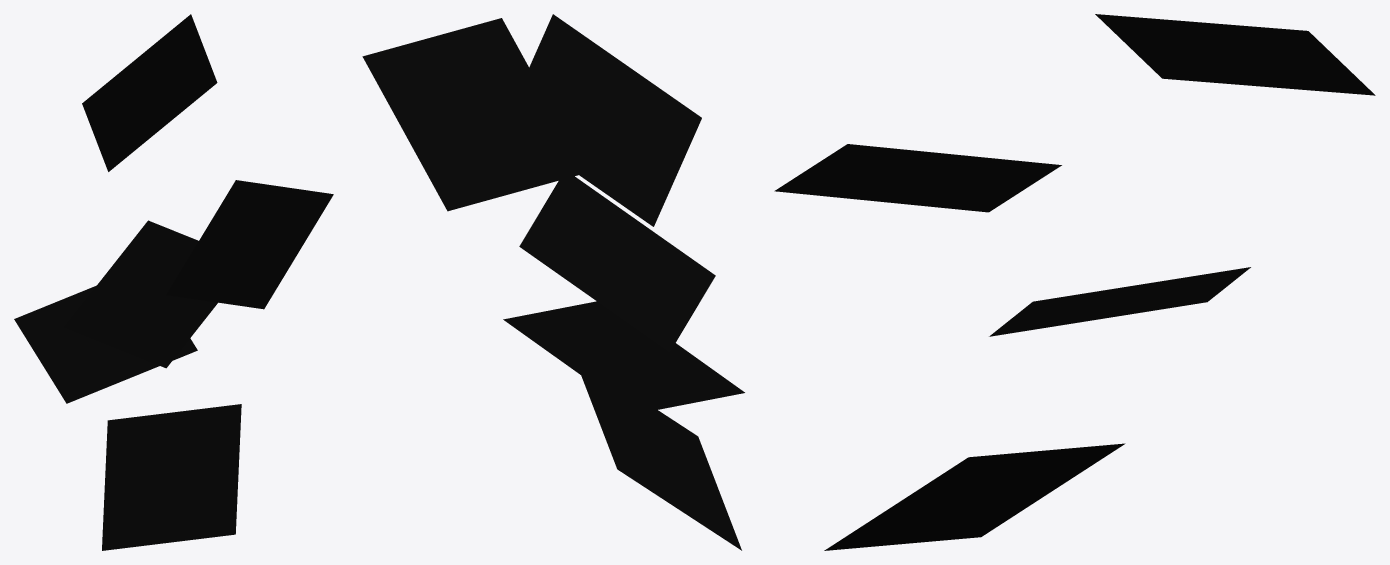
File: LeafClump4MESH_Water_1.fbx
The picture shows the model from 3 angles, left to right: view 1: azimuth 30°, elevation 25°; view 2: azimuth 150°, elevation 25°; view 3: azimuth 270°, elevation 25°; orthographic projection. The views are drawn at different scales.
Visible parts, largest first — view 1: Leaf_Clump_4; view 2: Leaf_Clump_4; view 3: Leaf_Clump_4.
Boxes of the visible parts, <box> form: Leaf_Clump_4: <box>14,14,333,550</box>; Leaf_Clump_4: <box>362,14,744,550</box>; Leaf_Clump_4: <box>774,14,1375,550</box>.
Size of the model in its own units: 43.31 by 81.03 by 67.5.
1 material, 1 textured.
